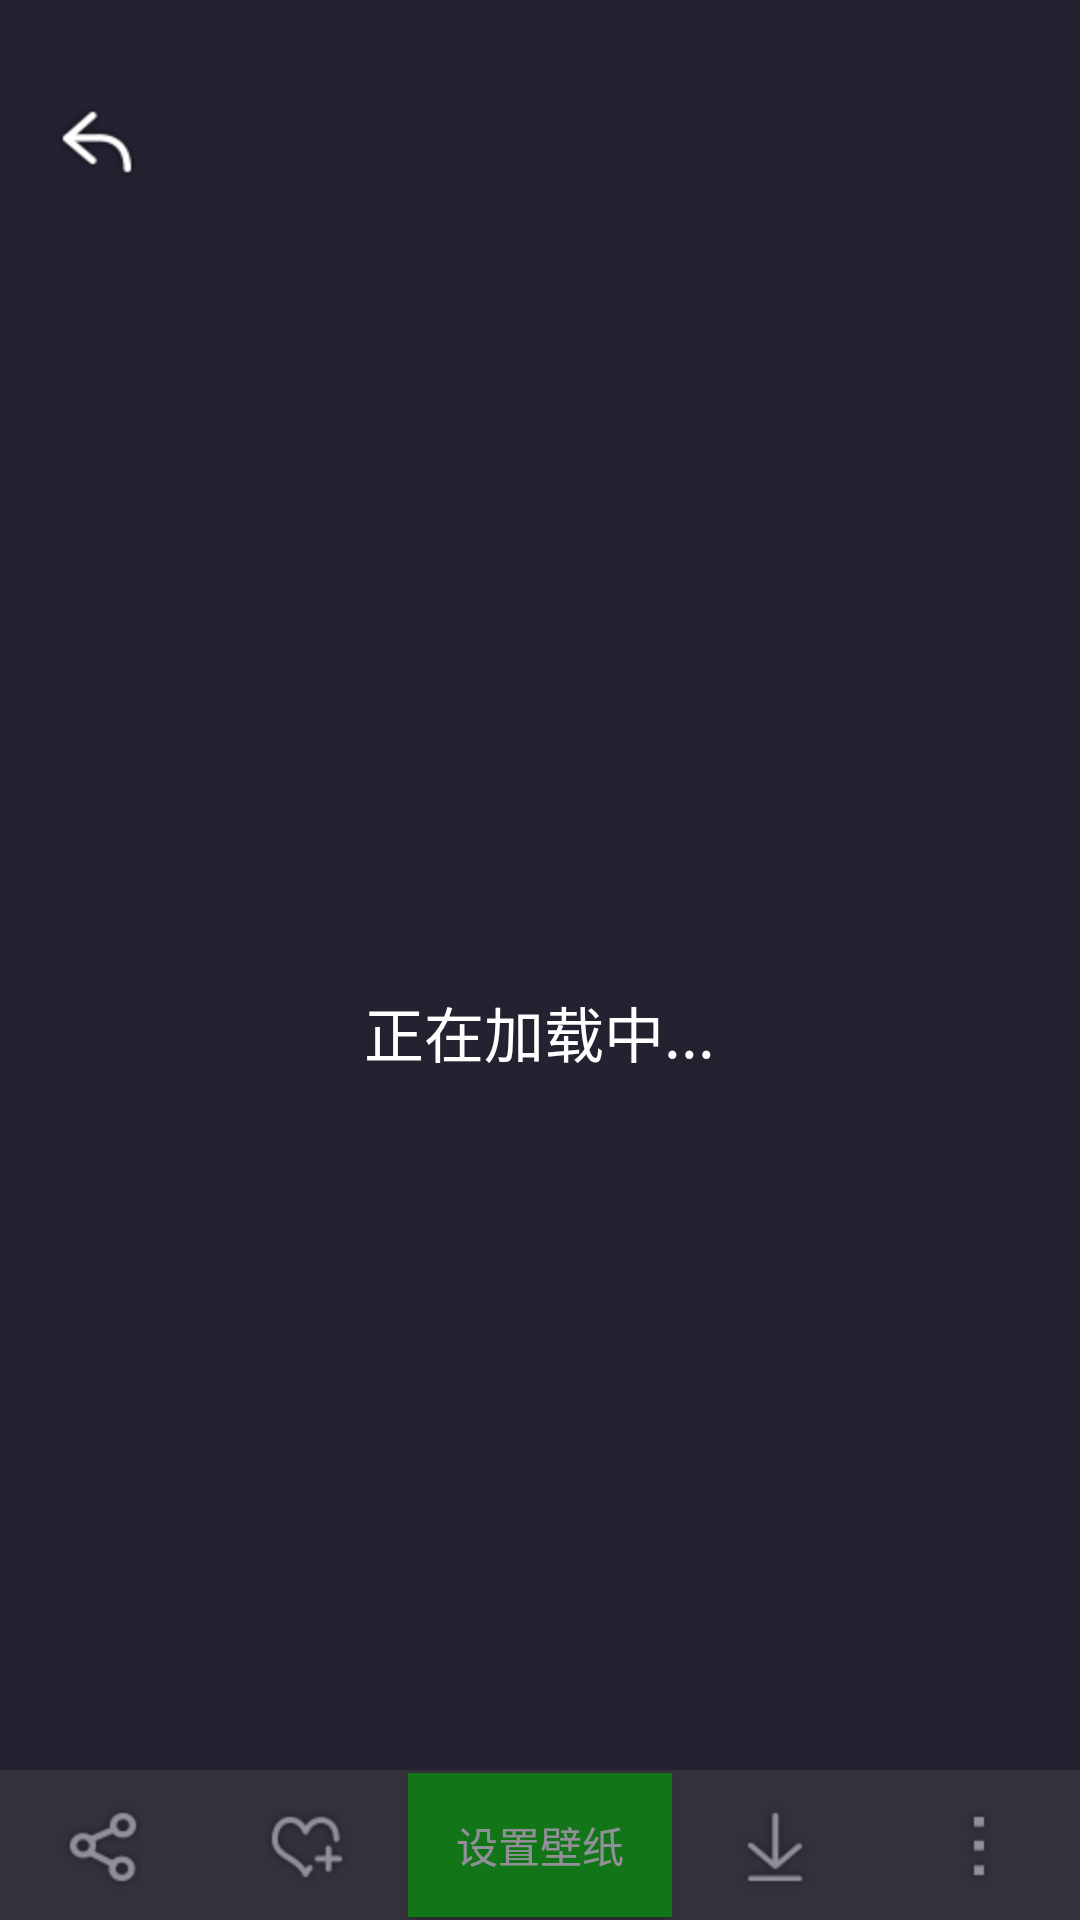

Screen size 1080px×1920px. Icon name, then its box in pixels as (x1, y1, x2, y2):
back: (62, 111, 132, 173)
down: (748, 1813, 802, 1881)
fav: (272, 1817, 342, 1877)
menu: (974, 1817, 984, 1875)
share: (70, 1813, 136, 1881)
